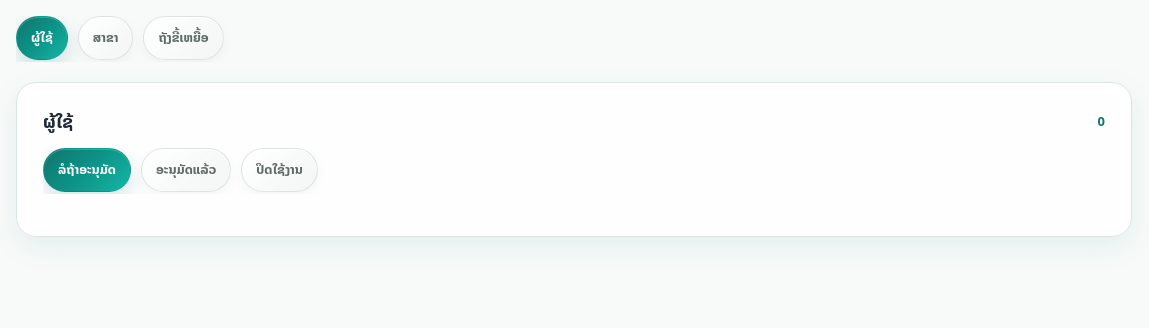
Test case: Admin disabled-user lifecycle › keeps populated long-name trash rows on the mobile-safe grid contract
The image size is (1149, 328).
Click the button "ຖັງຂີ້ເຫຍື້ອ" at [184, 38], box [143,16,224,60]
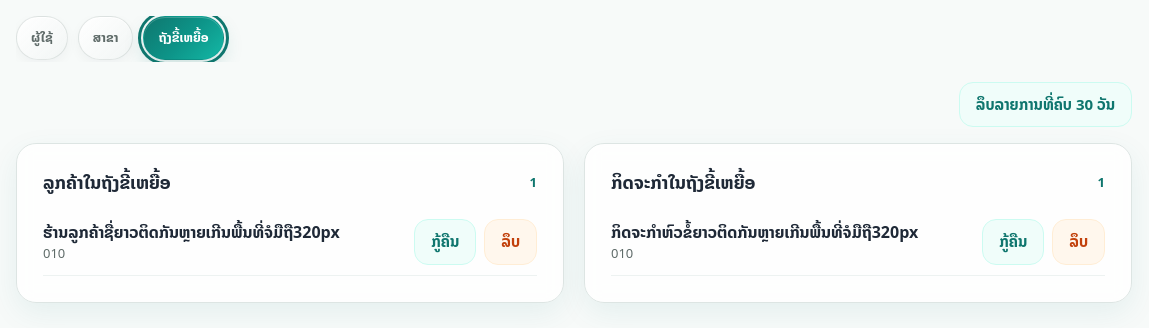
Now the text "ຮ້ານລູກຄ້າຊື່ຍາວຕິດກັນຫຼາຍເກີນພື້ນທີ່ຈໍມືຖື320px" is shown, box [43,219,340,245]
Now the text "ກິດຈະກຳຫົວຂໍ້ຍາວຕິດກັນຫຼາຍເກີນພື້ນທີ່ຈໍມືຖື320px" is shown, box [611,219,918,245]
